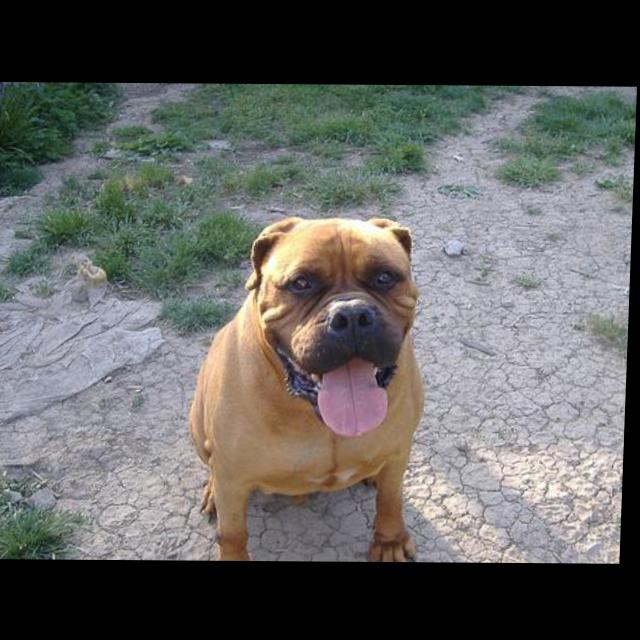bullmastiff: (190, 214, 436, 562)
